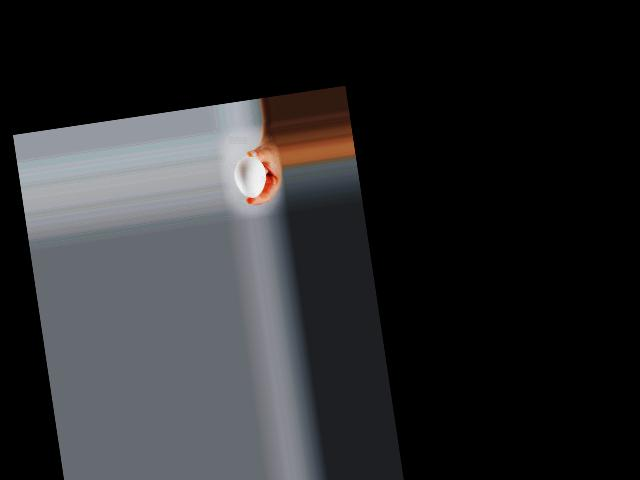egg: (232, 154, 268, 200)
